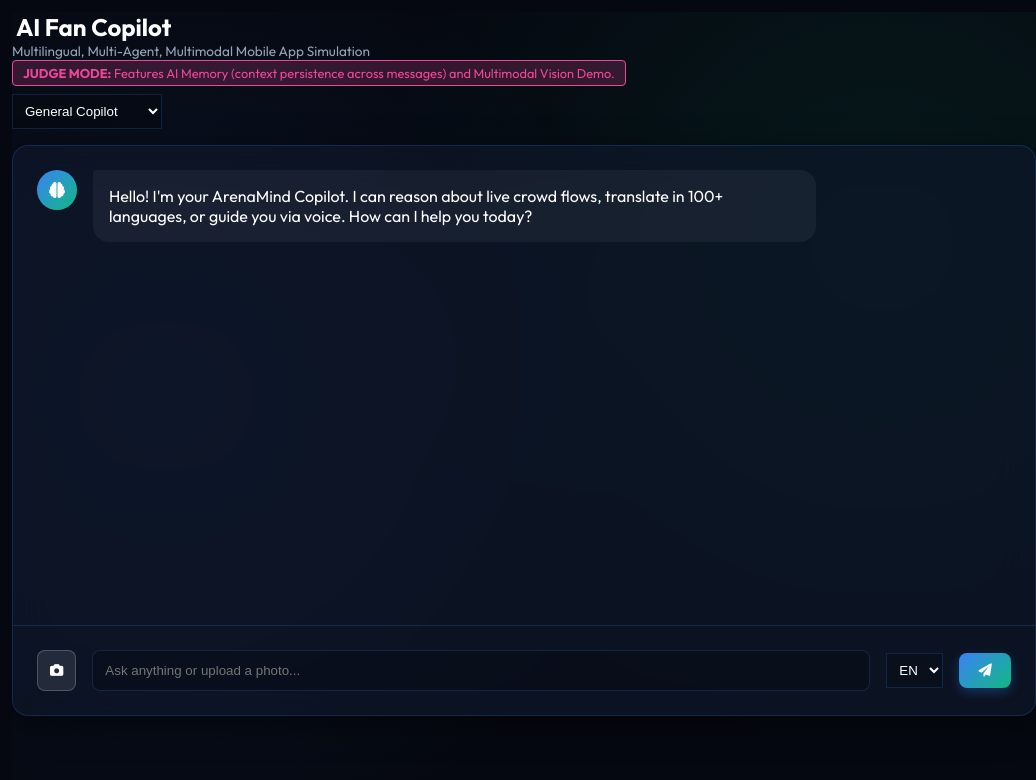
Scenario: FanCopilot Component › handles user input and displays user message
Type "Where is the nearest exit?" into the field with placeholder "Ask anything or upload a photo..." at [481, 670], box [92,650,870,691]
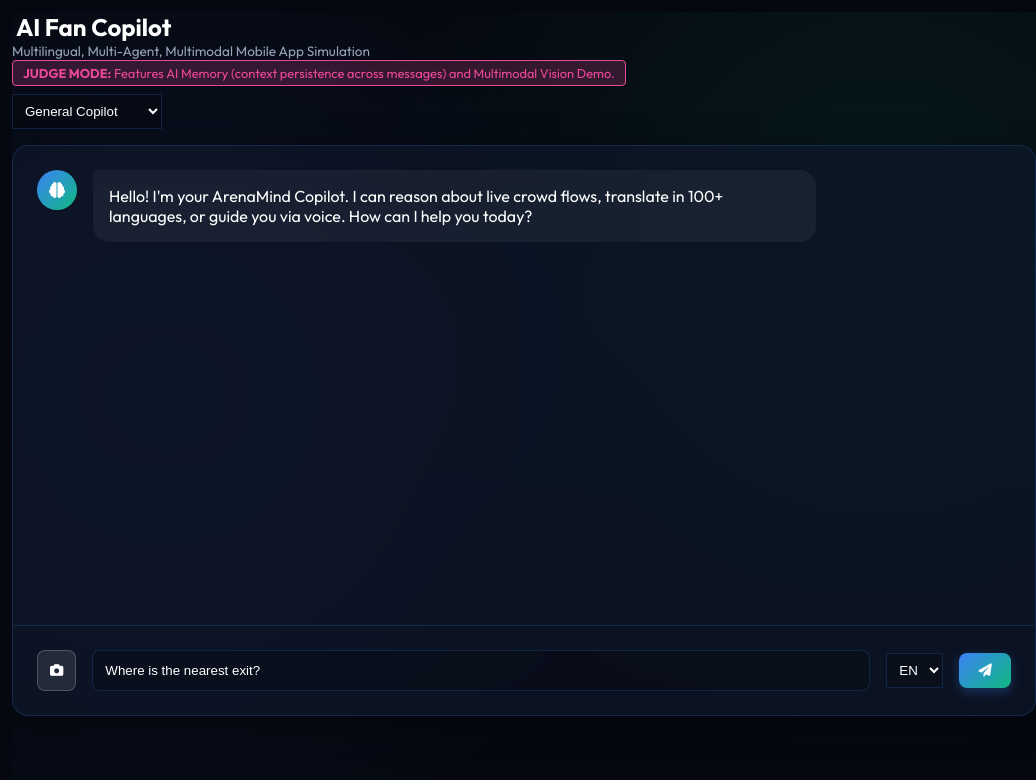
Click the button named "send message" at [985, 670], box [959,653,1011,688]
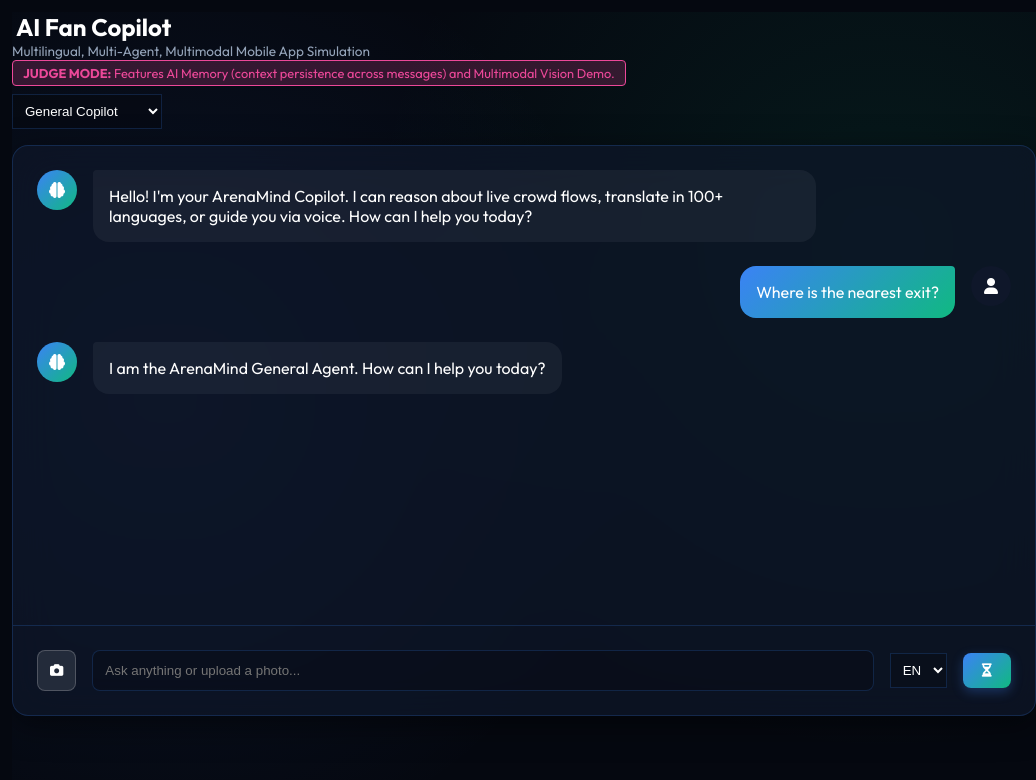
Expected: the text "Where is the nearest exit?" is shown, [740,266,955,318]
